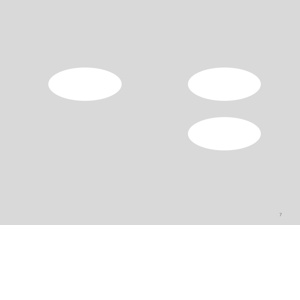round: (184, 63, 266, 104), (46, 63, 124, 101), (186, 114, 264, 152)
